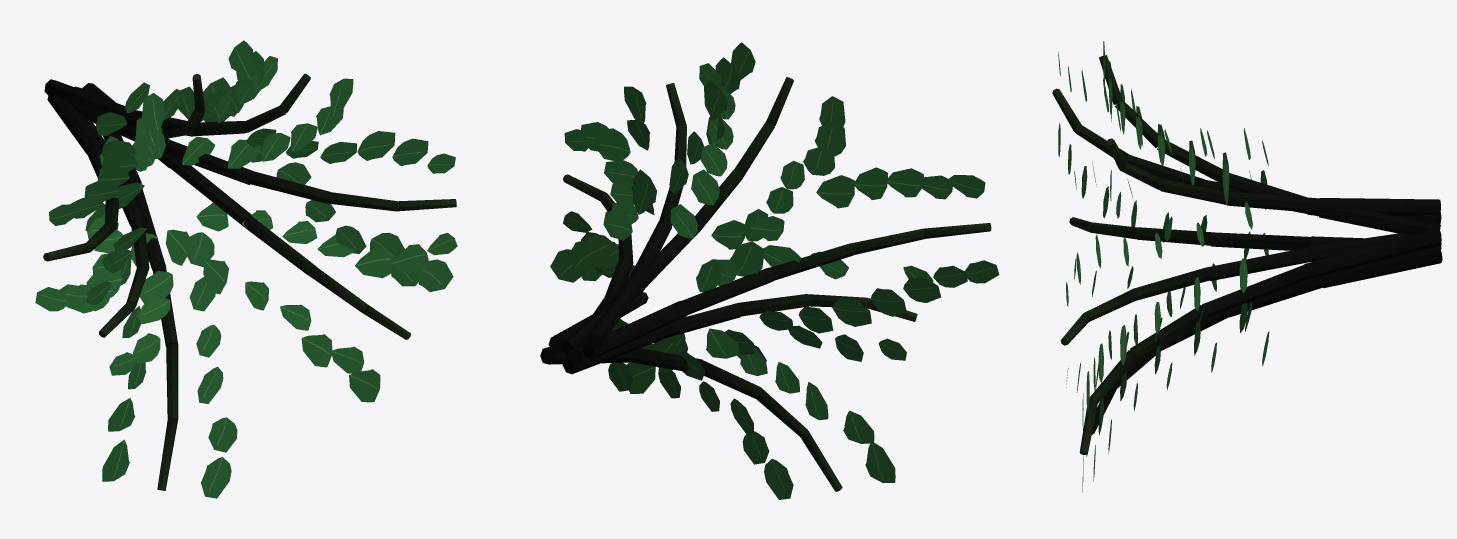
The model's file is VD_ZZPlant_A.obj.
3 views of the same model, side by side, from view 1: azimuth 30°, elevation 25°; view 2: azimuth 150°, elevation 25°; view 3: azimuth 270°, elevation 25° (orthographic). The views are drawn at different scales.
Visible parts, largest first — view 1: VD_ZZPlant_A; view 2: VD_ZZPlant_A; view 3: VD_ZZPlant_A.
Part boxes in pixels (box(x1,y1,x2,y2)): VD_ZZPlant_A: box(35, 40, 457, 498); VD_ZZPlant_A: box(540, 42, 999, 499); VD_ZZPlant_A: box(1052, 41, 1442, 492).
Bounding box in the file's own units: 87.17 × 85.4 × 61.
Materials: 2 (1 with a texture image).
